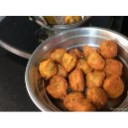bonda: (63, 91, 89, 109), (104, 75, 125, 97), (80, 65, 101, 87), (39, 60, 58, 77), (99, 41, 117, 58), (46, 81, 61, 99), (62, 52, 76, 70)
